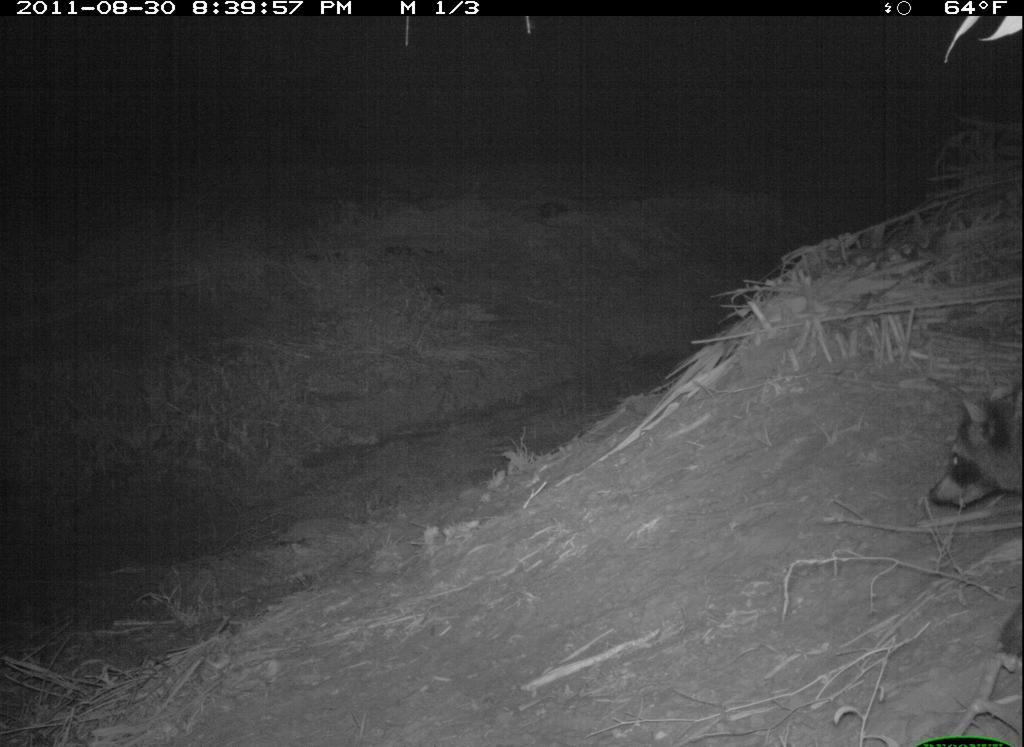raccoon: (922, 363, 1022, 551)
